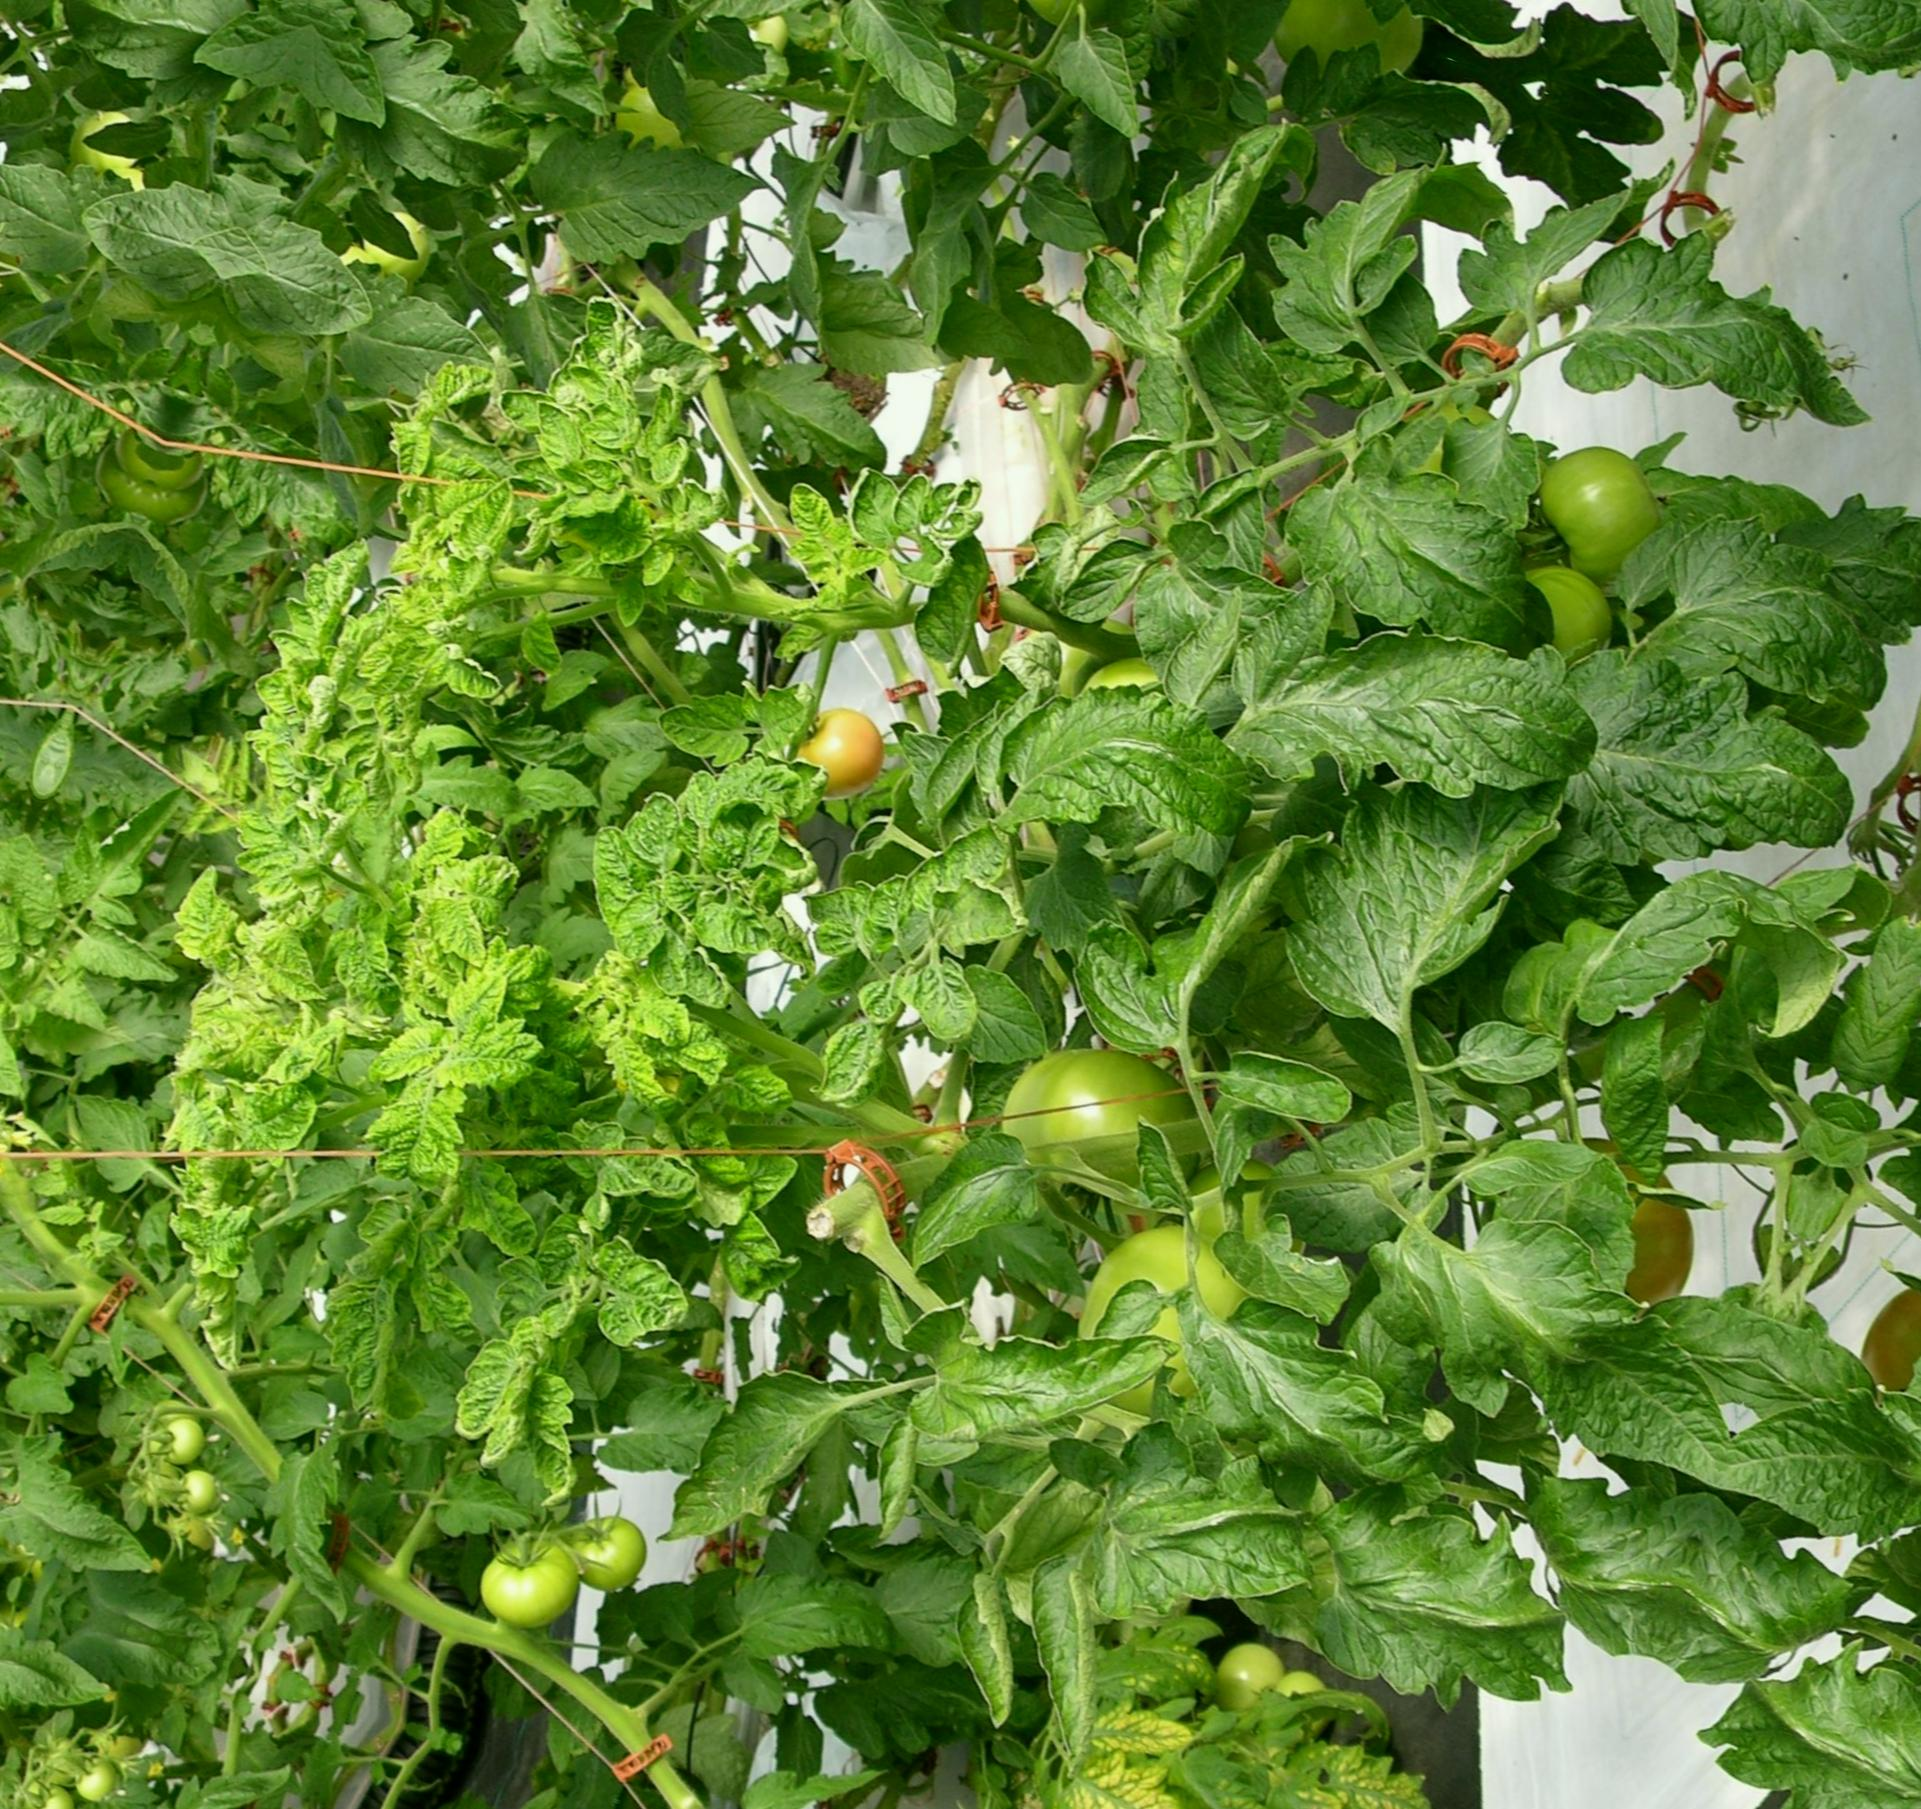Tomato leaf yellow virus: (1258, 563, 1634, 859), (971, 643, 1294, 925), (427, 1289, 648, 1517), (1163, 1659, 1470, 1809), (559, 1212, 721, 1391), (389, 813, 535, 981), (350, 1061, 491, 1228), (558, 939, 738, 1064), (631, 660, 779, 787), (231, 896, 364, 1025), (1022, 1729, 1214, 1809), (583, 1032, 716, 1141), (544, 469, 668, 585), (753, 457, 867, 580), (401, 624, 522, 726), (437, 1005, 551, 1107), (517, 391, 598, 479)
